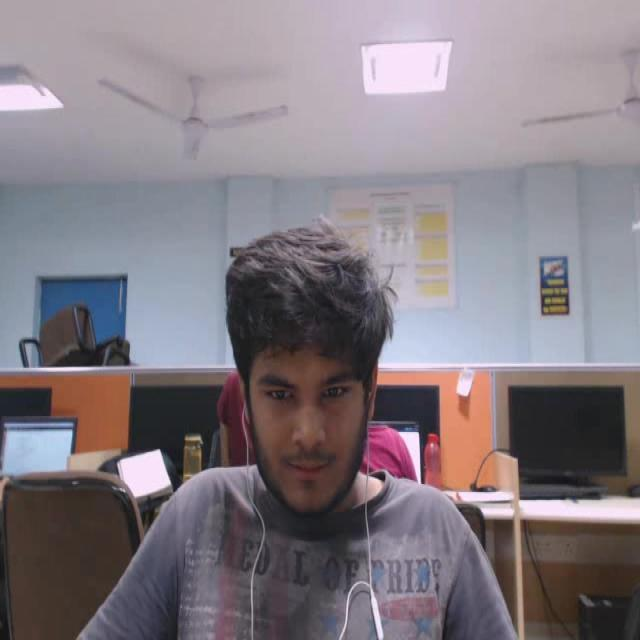Engaged: (176, 196, 426, 548)
